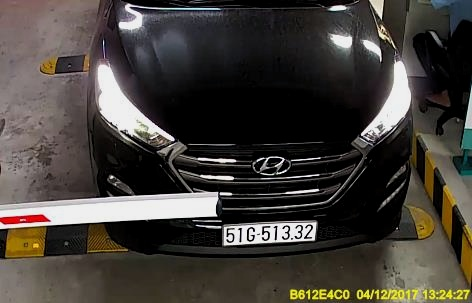plate: (222, 219, 314, 246)
